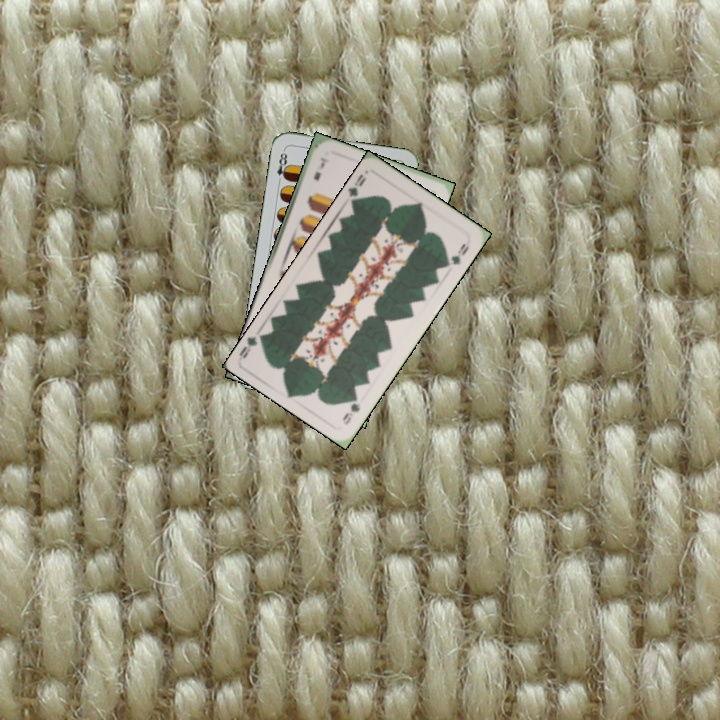E7: (309, 153, 330, 183)
E8: (273, 146, 291, 186)
G9: (338, 390, 363, 427), (345, 170, 369, 207)
